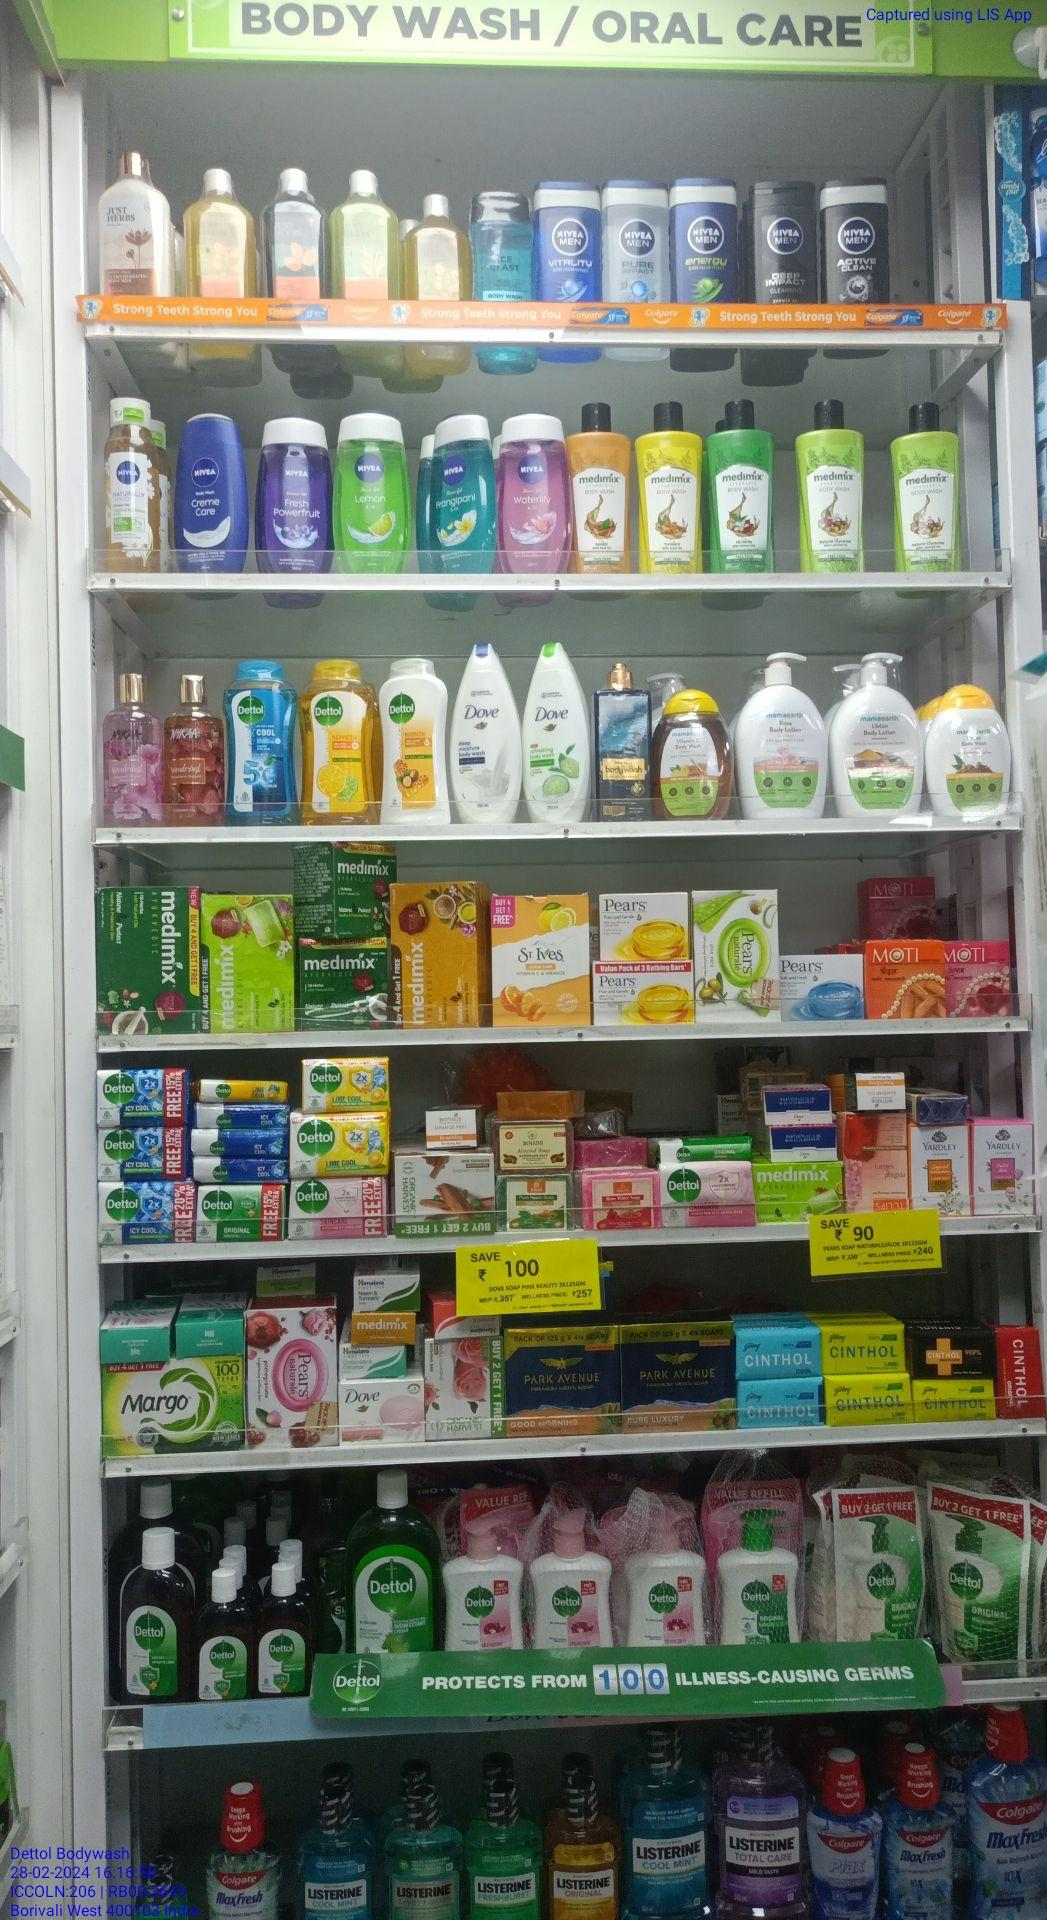Dettol_Bodywash_Cool: (227, 659, 293, 825)
Dettol_Bodywash_Refresh: (300, 658, 373, 830)
Dettol_Nourish_Body_Wash_250ML: (383, 652, 449, 837)
Dove_Deep_Moisture_Body_Wash_250ML: (451, 642, 517, 827)
Dove_Refreshing_Body_Wash_250ML: (527, 643, 585, 825)
Nivea_Creme_Care_Body_Wash_250ML: (171, 413, 246, 582)
Nivea_Shower_Gel_Frangipani_and_Oil_250ML: (431, 413, 493, 576)
Nivea_Shower_Gel_Fresh_Powerfruit_250ML: (257, 413, 328, 578)
Nivea_Shower_Gel_Lemon_and_Oil_250ML: (339, 411, 413, 576)
Nivea_Shower_Gel_Waterlily_and_Oil_250ML: (498, 406, 572, 575)
